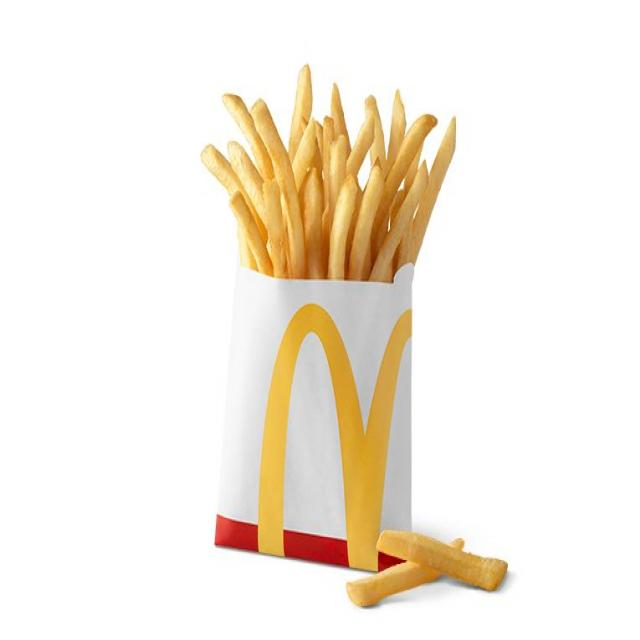Fries: (195, 55, 515, 611)
